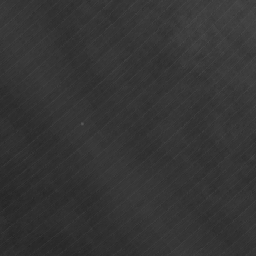Target: (79, 120, 86, 127)
